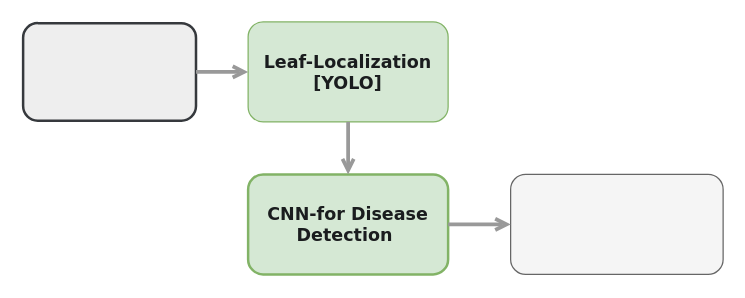
This 745x298 diagram has some shape labels left out. The shapes that lost their labels are listed below. From the top down, each one's centre as x and y in pixels, then its label:
At (x=109, y=71): "Camera Input Image".
At (x=616, y=223): "Result [Input packet for LoRAWAN]".
